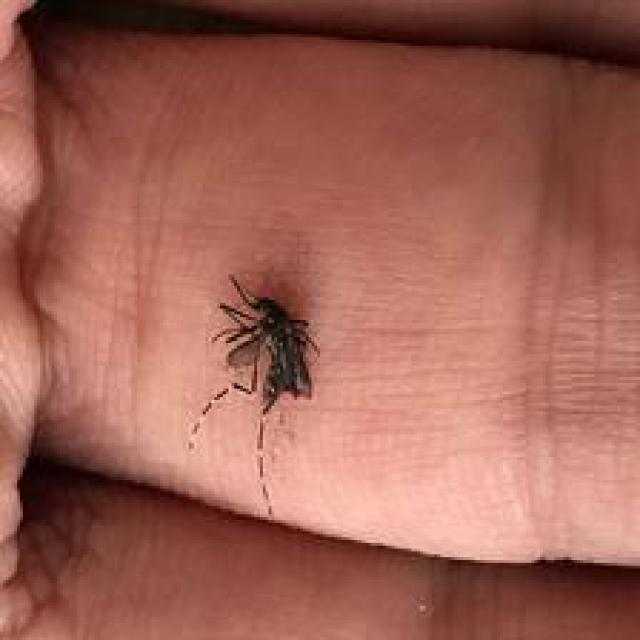Aedes albopictus: (185, 273, 322, 518)
